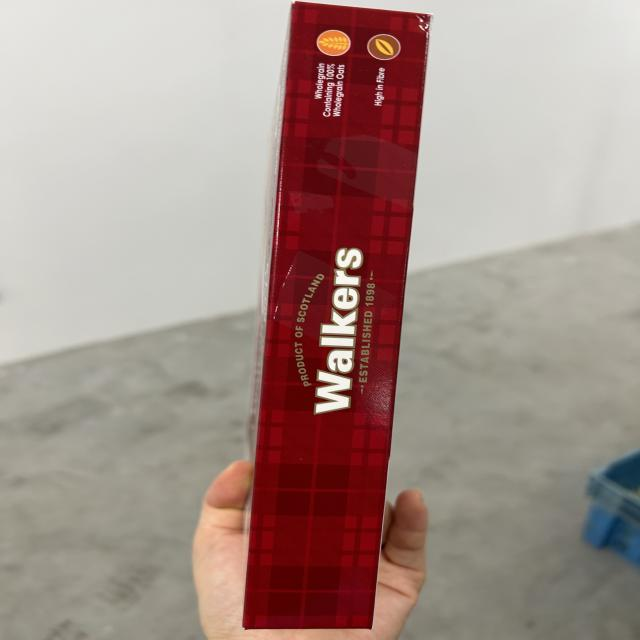object_name: (281, 3, 381, 628)
